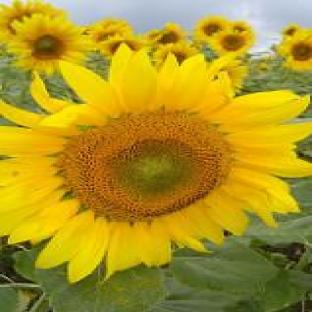sunflower: (0, 43, 312, 285)
